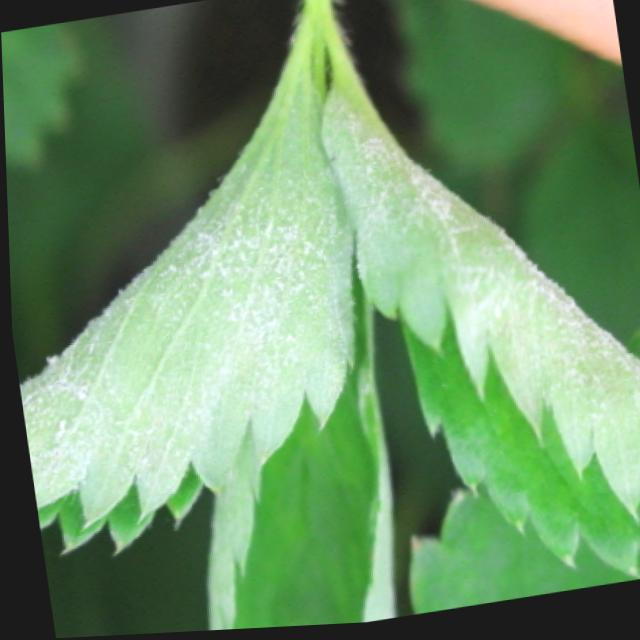Powdery Mildew Leaf: (16, 26, 354, 559), (316, 59, 640, 586), (204, 289, 390, 632)
